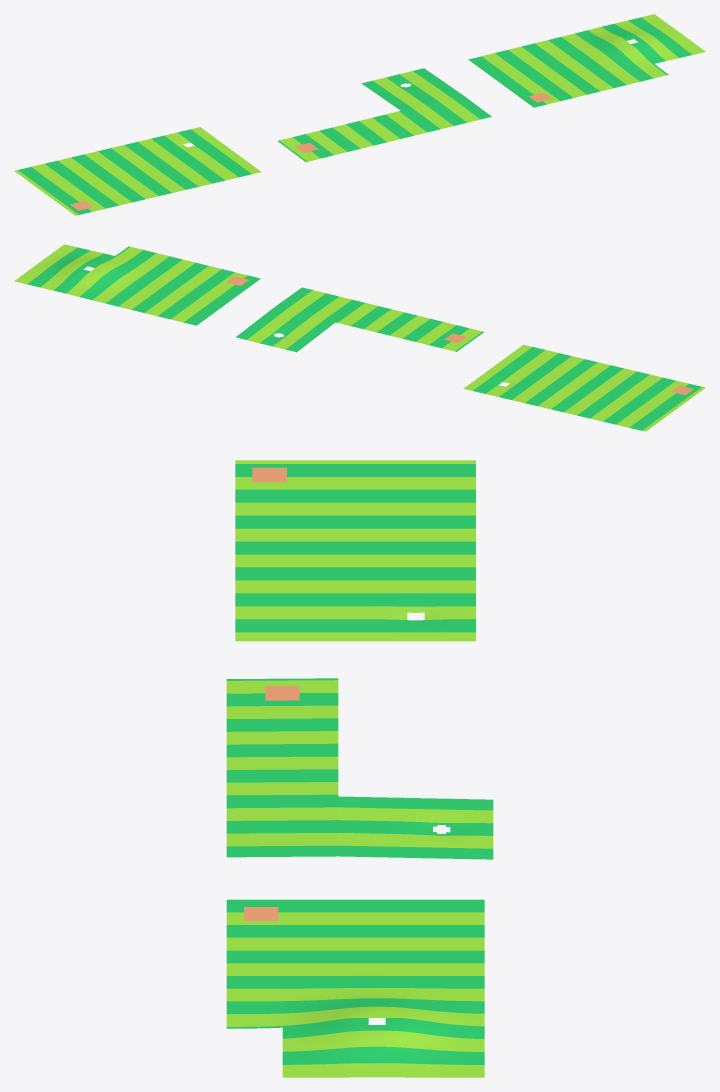
File: greens3.glb
3 renders of one model, top to bottom at view 1: azimuth 30°, elevation 25°; view 2: azimuth 150°, elevation 25°; view 3: azimuth 270°, elevation 25°, orthographic. The views are drawn at different scales.
Visible parts, largest first — view 1: Green9, Green7, Green8; view 2: Green9, Green7, Green8; view 3: Green7, Green9, Green8.
Part boxes in pixels (x1=…): Green9: x1=468, y1=14, x2=705, y2=107; Green7: x1=14, y1=127, x2=261, y2=215; Green8: x1=278, y1=68, x2=491, y2=161; Green9: x1=14, y1=244, x2=260, y2=325; Green7: x1=463, y1=344, x2=705, y2=431; Green8: x1=236, y1=287, x2=483, y2=352; Green7: x1=235, y1=460, x2=475, y2=641; Green9: x1=226, y1=899, x2=484, y2=1077; Green8: x1=226, y1=678, x2=493, y2=859.
Bounding box in the file's own units: 33.8 × 0.2484 × 6.2.
